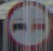No overtake: (4, 1, 51, 50)
